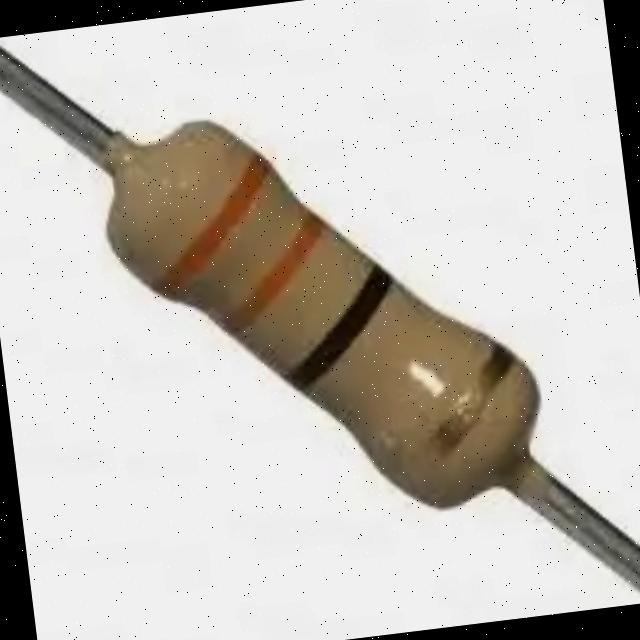black: (285, 266, 394, 393)
gold: (394, 342, 517, 501)
orange: (151, 151, 271, 301), (220, 209, 326, 335)
resistor: (66, 81, 590, 544)
